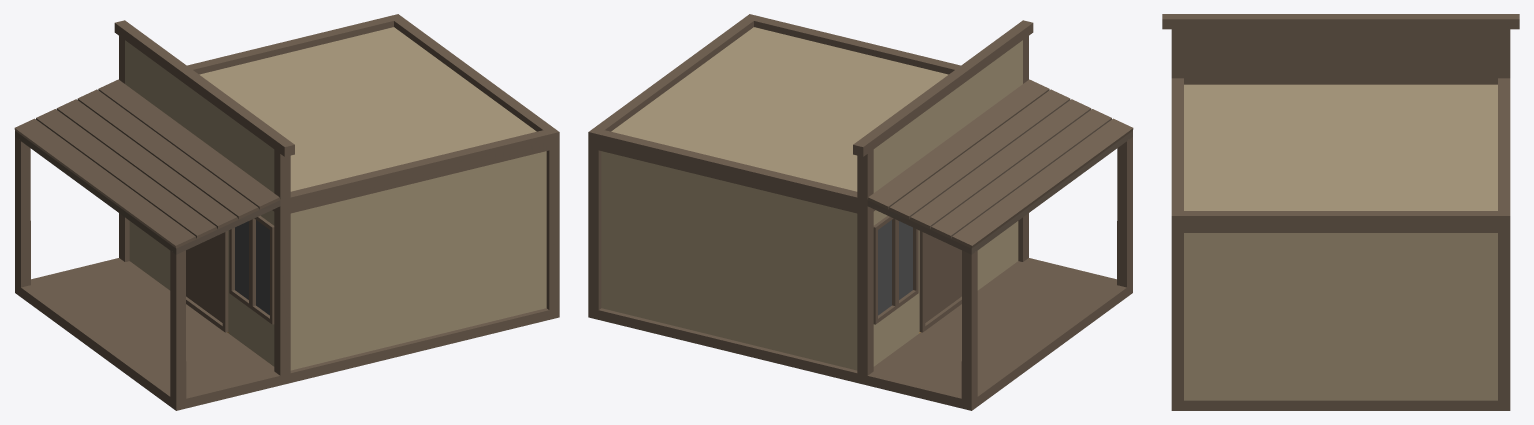
The model's file is booth_01.fbx.
The picture shows the model from 3 angles, left to right: view 1: azimuth 30°, elevation 25°; view 2: azimuth 150°, elevation 25°; view 3: azimuth 270°, elevation 25°; orthographic projection. The views are drawn at different scales.
Parts seen in each view (by area): view 1: booth_01; view 2: booth_01; view 3: booth_01.
Boxes of the visible parts, left/top/right/bottom form: booth_01: left=14, top=14, right=559, bottom=410; booth_01: left=588, top=14, right=1133, bottom=410; booth_01: left=1162, top=14, right=1519, bottom=410.
Bounding box in the file's own units: 9.46 × 7.26 × 5.69.
